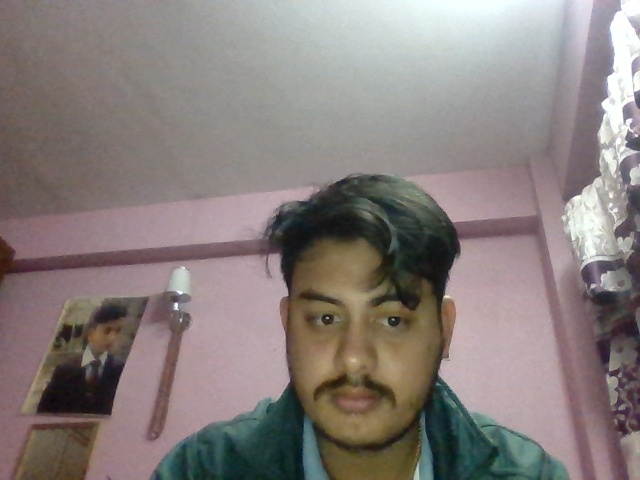no mask: (280, 341, 443, 454)
